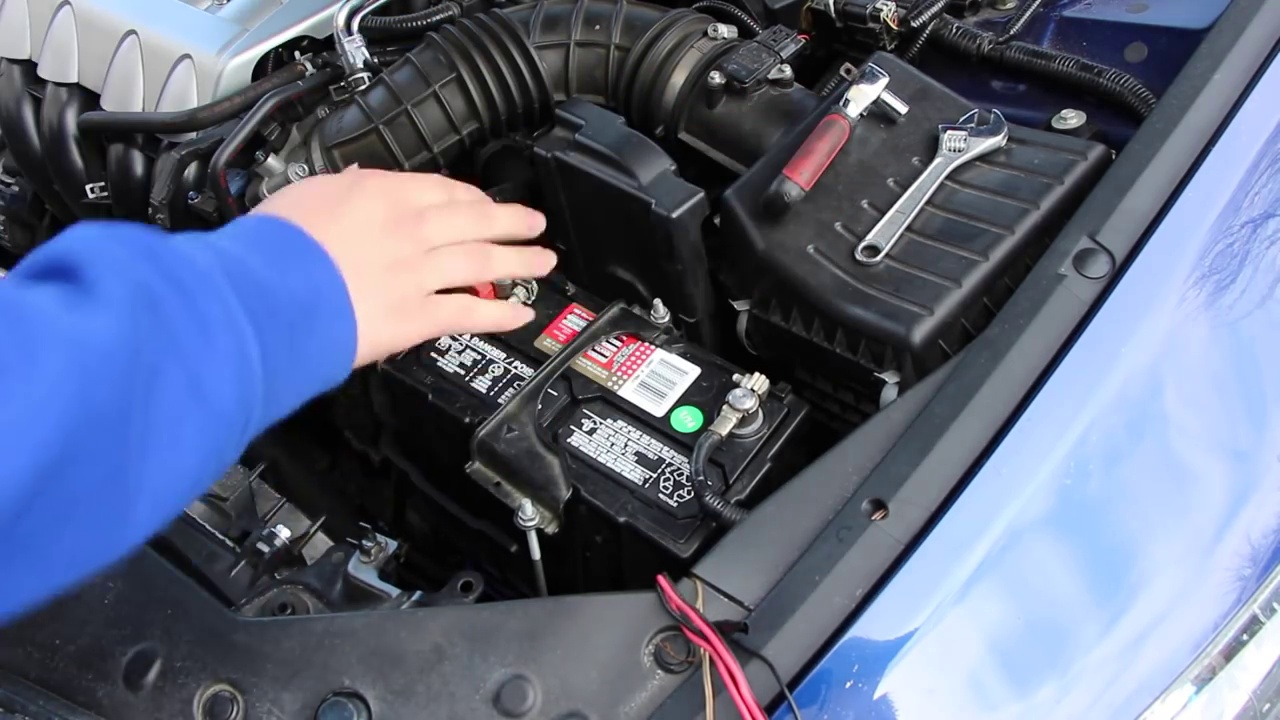battery: (386, 238, 796, 560)
neg_connected: (691, 350, 778, 460)
pos_touched: (437, 245, 541, 334)
